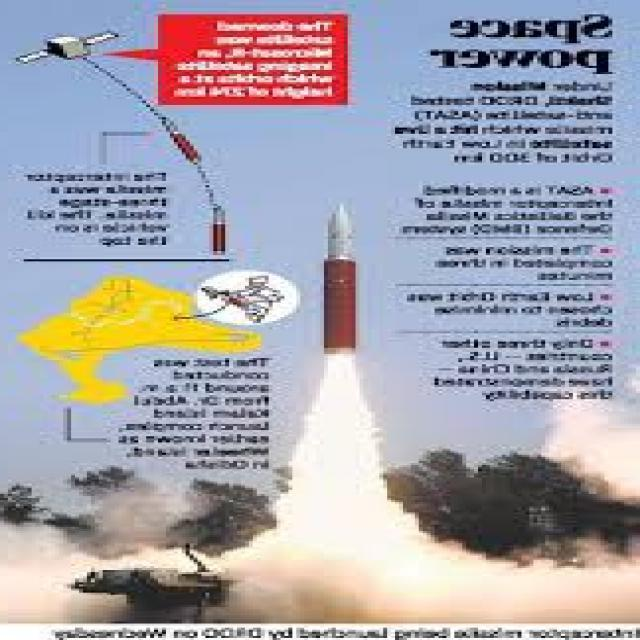Missile: (310, 204, 366, 369)
